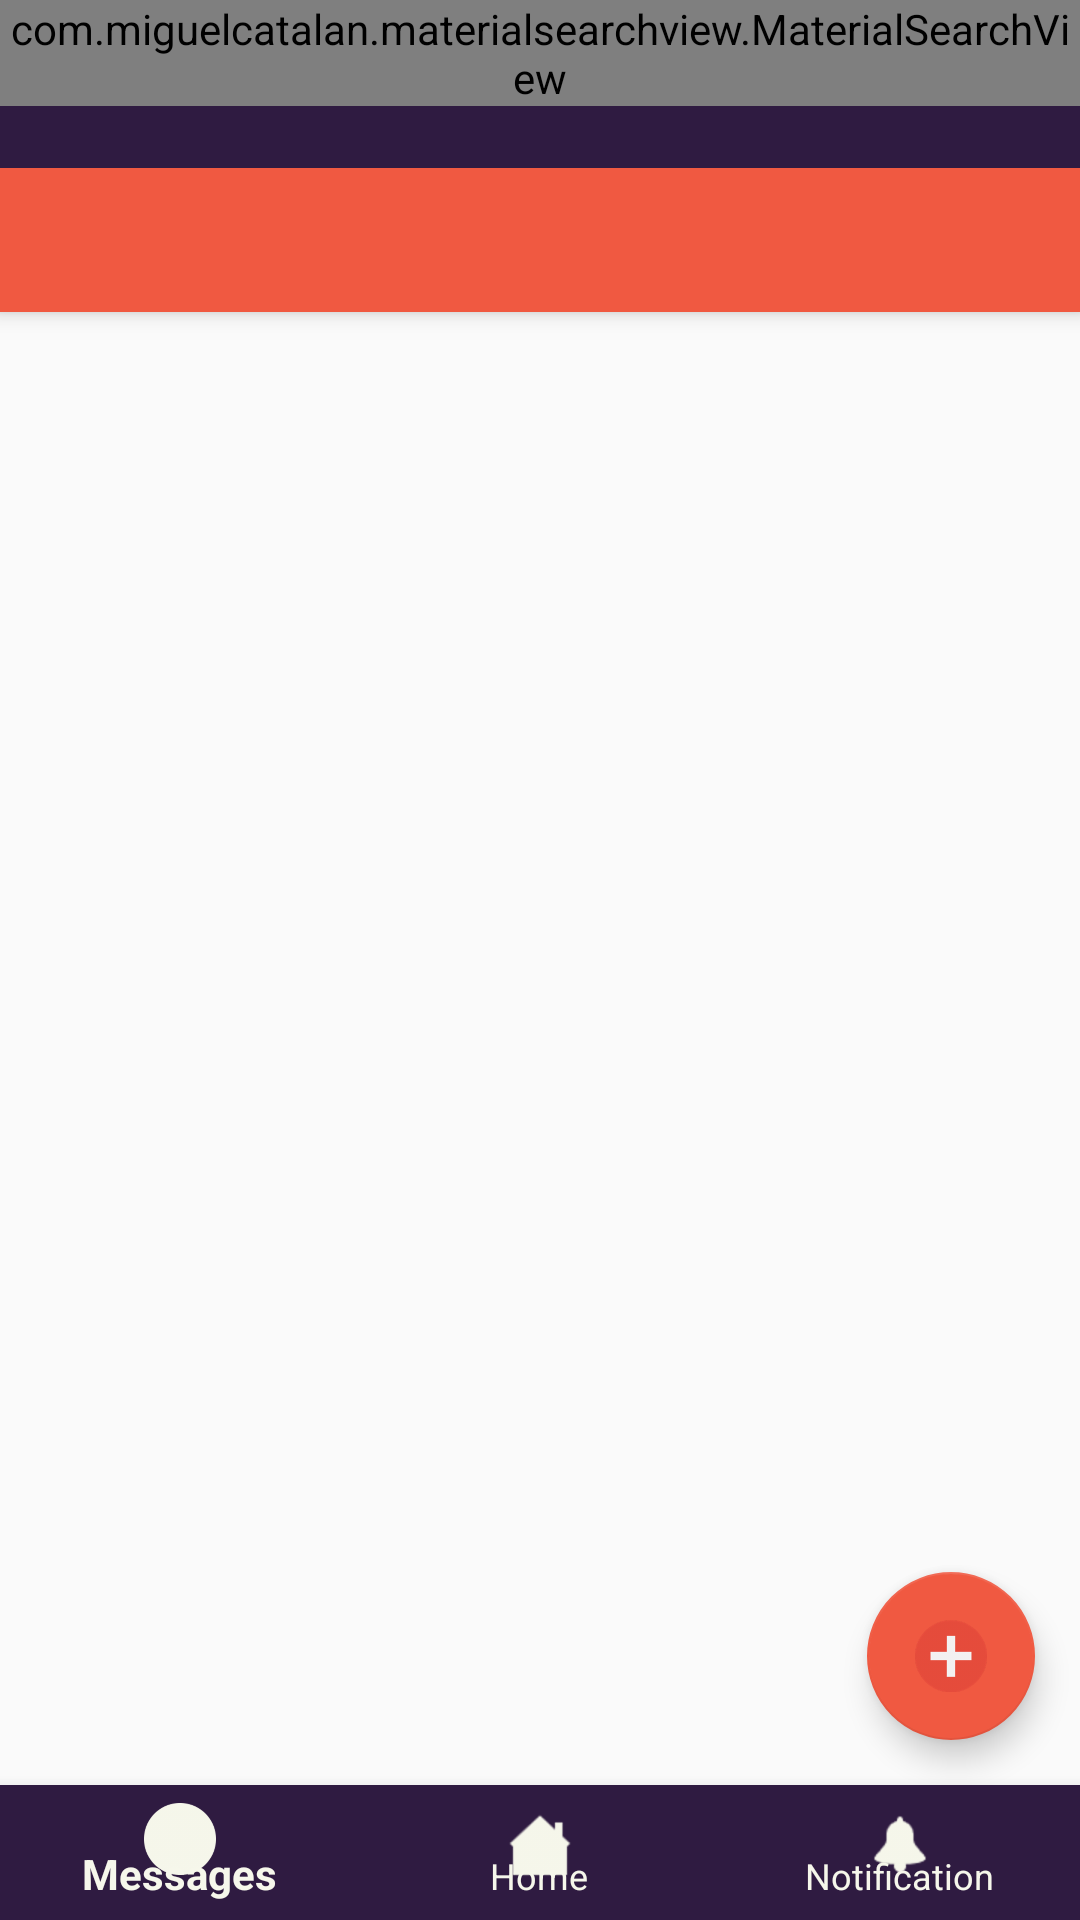

Where to tap for icons on this 1080w x 1920h app screen, as (x,y):
add: (951,1656)
